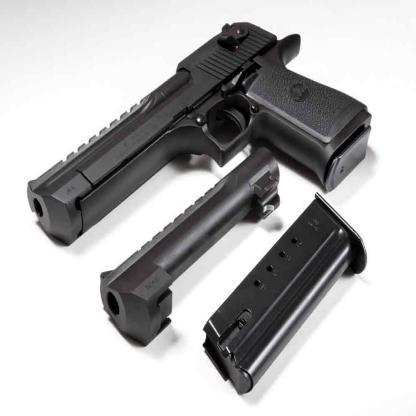Pistol: (26, 20, 370, 246)
